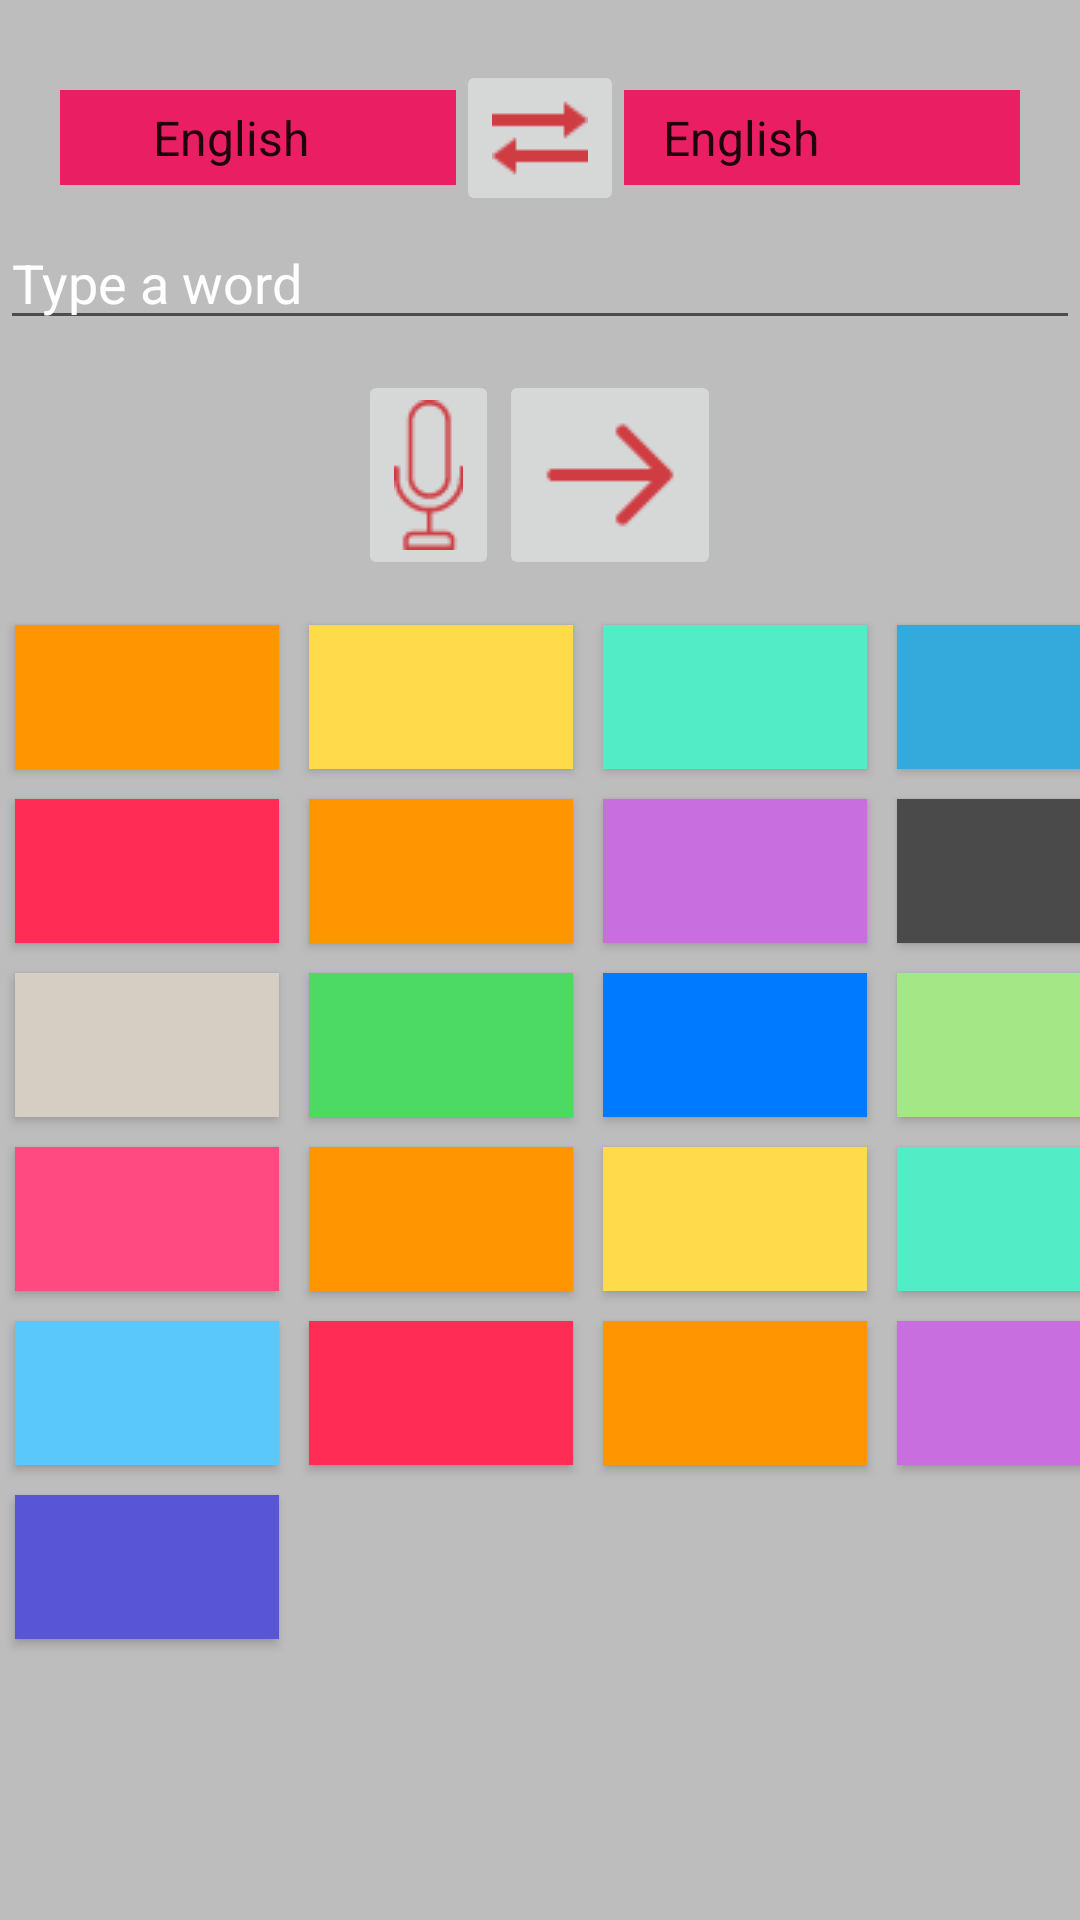

Icon click points for this 1080w x 1920h phone screenshot, format (x,y):
Confirm: (610,475)
Swap inputs: (540,138)
Voice Search: (428,475)
